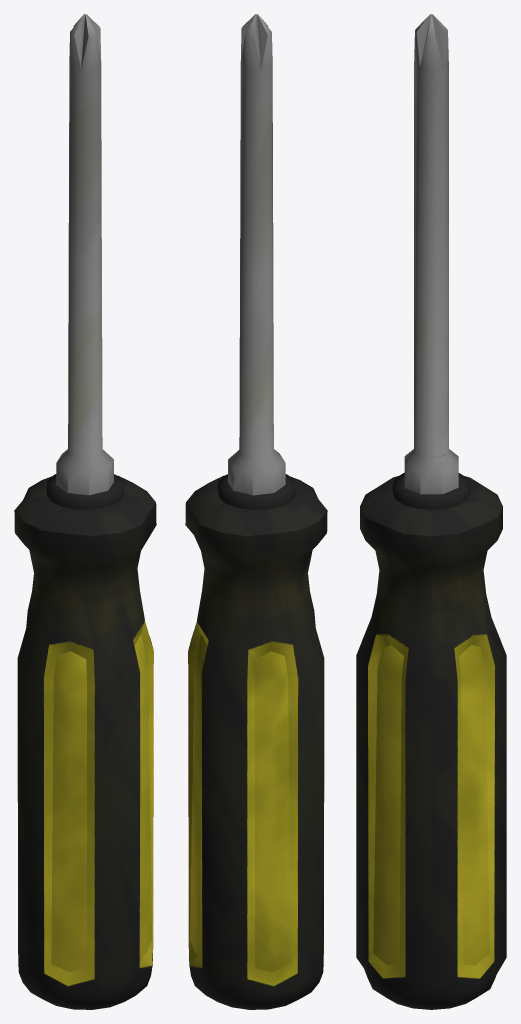
Rendered from simple_philips_screwdriver.glb.
3 views of the same model, side by side, from view 1: azimuth 30°, elevation 25°; view 2: azimuth 150°, elevation 25°; view 3: azimuth 270°, elevation 25° (orthographic).
Visible parts, largest first — view 1: Object_2; view 2: Object_2; view 3: Object_2.
Boxes of the visible parts, x1,y1,x2,y2 form: Object_2: (14, 14, 156, 1009); Object_2: (185, 14, 327, 1009); Object_2: (356, 14, 506, 1009).
Size of the model in its own units: 0.6749 by 4.89 by 0.6749.
Materials: 1 (1 with a texture image).
